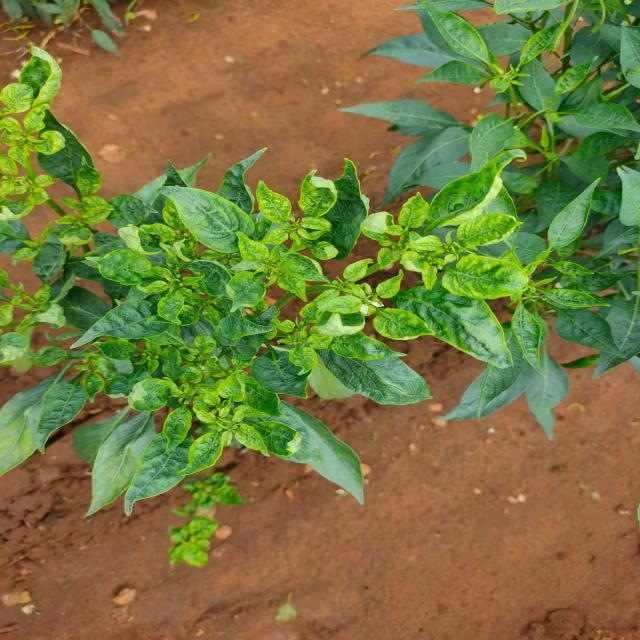Moko: (314, 150, 520, 371), (123, 323, 280, 578), (0, 148, 150, 338), (60, 185, 229, 342), (0, 33, 133, 221), (213, 154, 350, 334)
